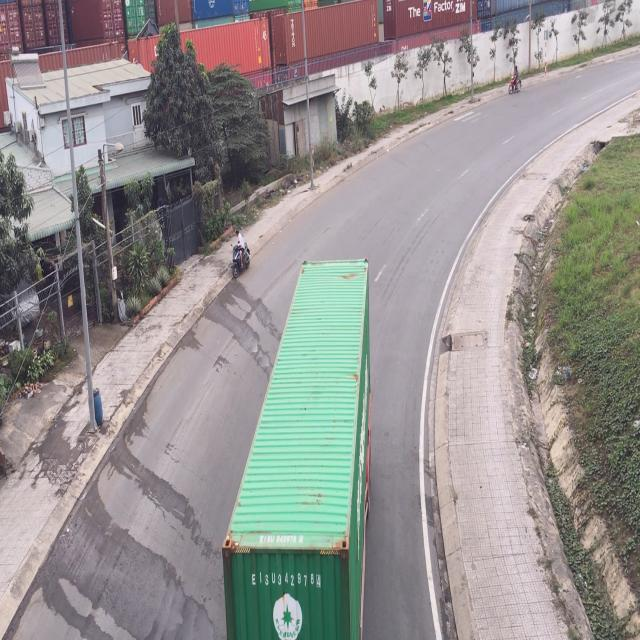motorbike: (232, 230, 251, 279), (507, 64, 522, 97)
truck: (223, 264, 368, 638)
